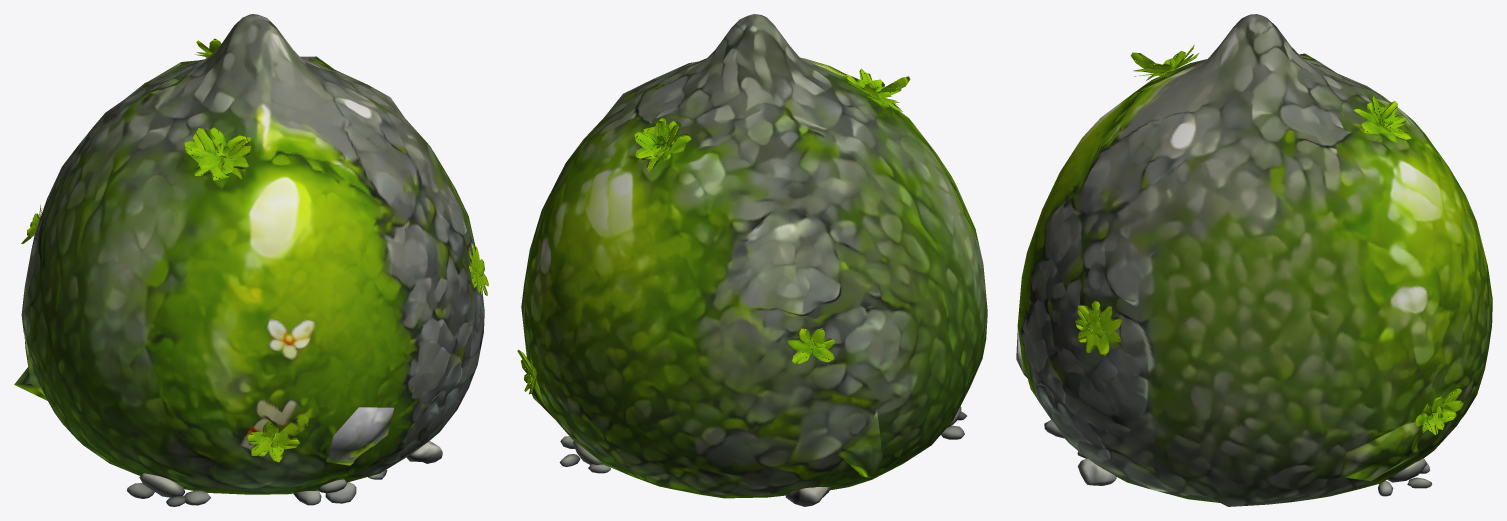
File: moss_golem.glb
The picture shows the model from 3 angles, left to right: view 1: azimuth 30°, elevation 25°; view 2: azimuth 150°, elevation 25°; view 3: azimuth 270°, elevation 25°; orthographic projection. The views are drawn at different scales.
Visible parts, largest first — view 1: geometry_0; view 2: geometry_0; view 3: geometry_0.
Part boxes in pixels (bbox=[...]): geometry_0: bbox=[14, 14, 488, 506]; geometry_0: bbox=[517, 14, 987, 506]; geometry_0: bbox=[1016, 14, 1492, 506].
Size of the model in its own units: 0.9429 by 0.9292 by 0.9492.
Materials: 1 (1 with a texture image).
